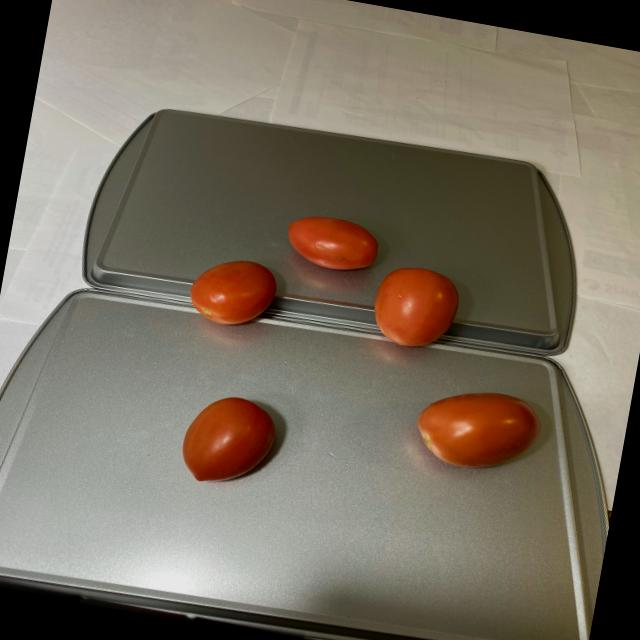tomato: (182, 194, 472, 364), (412, 378, 548, 480), (180, 384, 281, 496)
